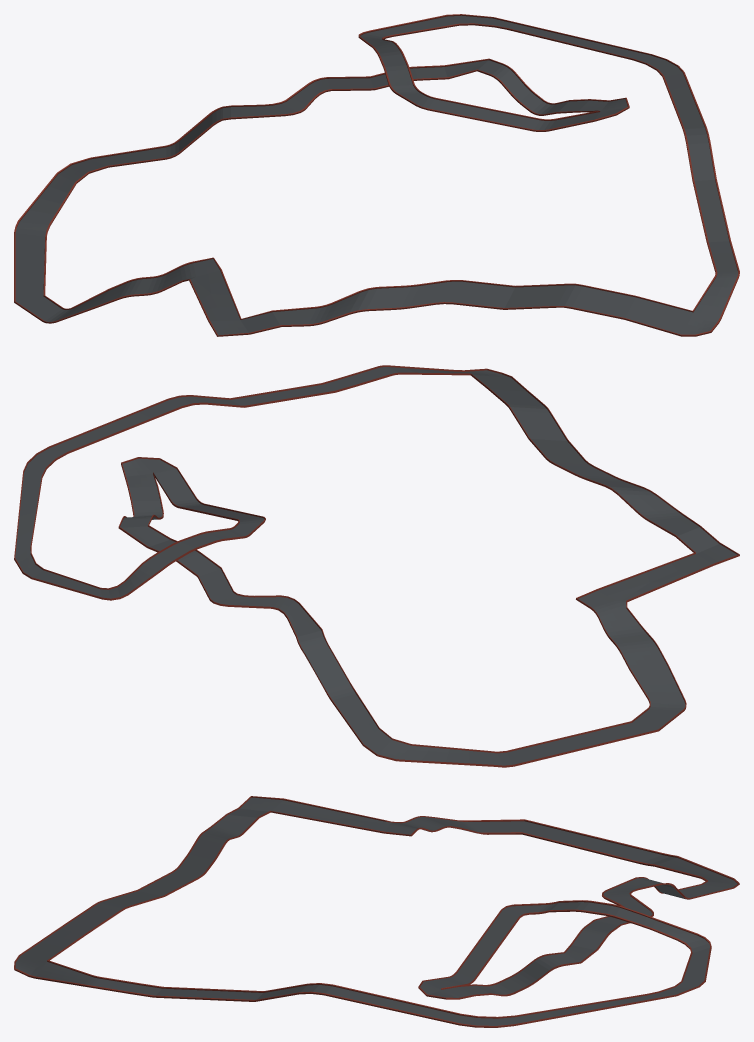
Rendered from Track4Desert.glb.
3 renders of one model, top to bottom at view 1: azimuth 30°, elevation 25°; view 2: azimuth 150°, elevation 25°; view 3: azimuth 270°, elevation 25°, orthographic. The views are drawn at different scales.
Visible parts, largest first — view 1: DesertTrack; view 2: DesertTrack; view 3: DesertTrack.
Part boxes in pixels (x1=…): DesertTrack: x1=14, y1=14, x2=739, y2=336; DesertTrack: x1=14, y1=365, x2=739, y2=767; DesertTrack: x1=14, y1=796, x2=739, y2=1027.
Size of the model in its own units: 4.45 by 0.7602 by 4.52.
